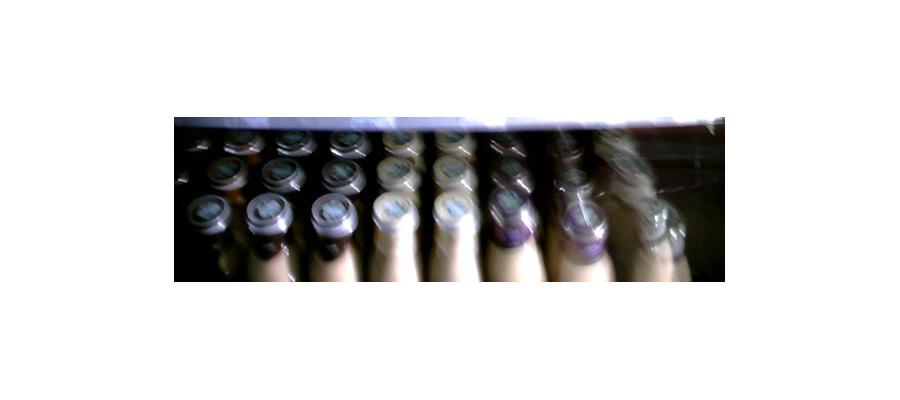bottle: (614, 133, 687, 284), (551, 146, 613, 280), (486, 143, 541, 282), (429, 149, 478, 279), (366, 173, 421, 278), (302, 188, 355, 281), (247, 187, 294, 279)
